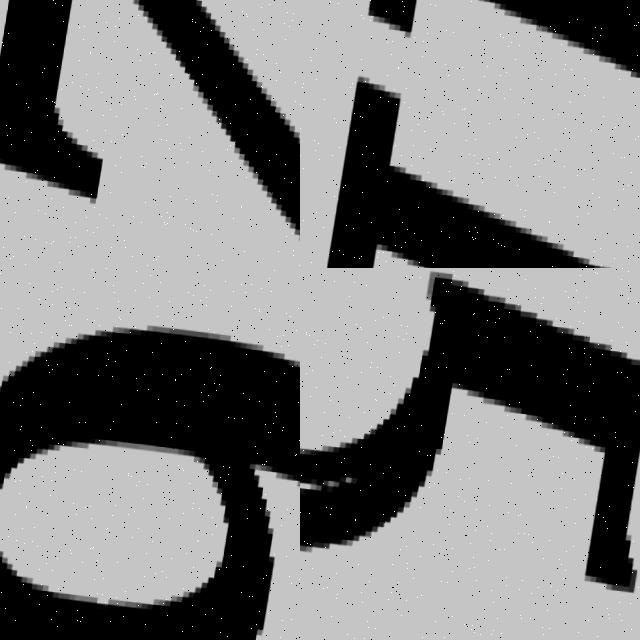2: (0, 0, 300, 268)
5: (300, 268, 640, 594)
6: (0, 295, 300, 640)
N: (308, 0, 640, 268)
